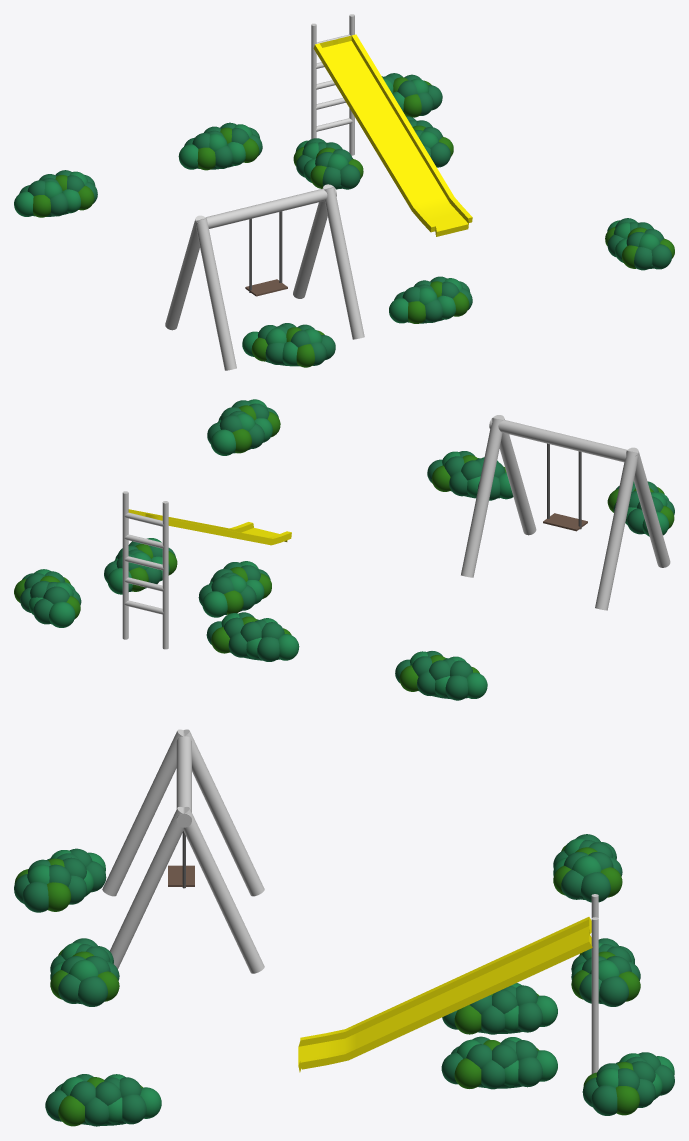
Rendered from Park.fbx.
3 renders of one model, top to bottom at view 1: azimuth 30°, elevation 25°; view 2: azimuth 150°, elevation 25°; view 3: azimuth 270°, elevation 25°, orthographic. The views are drawn at different scales.
Visible parts, largest first — view 1: pCylinder15; view 2: pCylinder15; view 3: pCylinder15.
Boxes of the visible parts, box(x1,y1,x2,y2) form: pCylinder15: box(14, 14, 674, 370); pCylinder15: box(14, 399, 674, 700); pCylinder15: box(14, 729, 674, 1126).
Size of the model in its own units: 1.83 by 0.5398 by 1.88.
